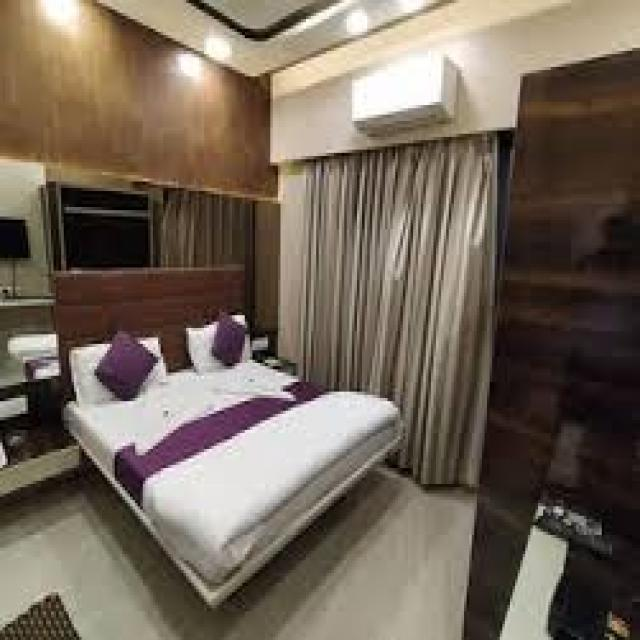bed: (48, 261, 403, 608)
